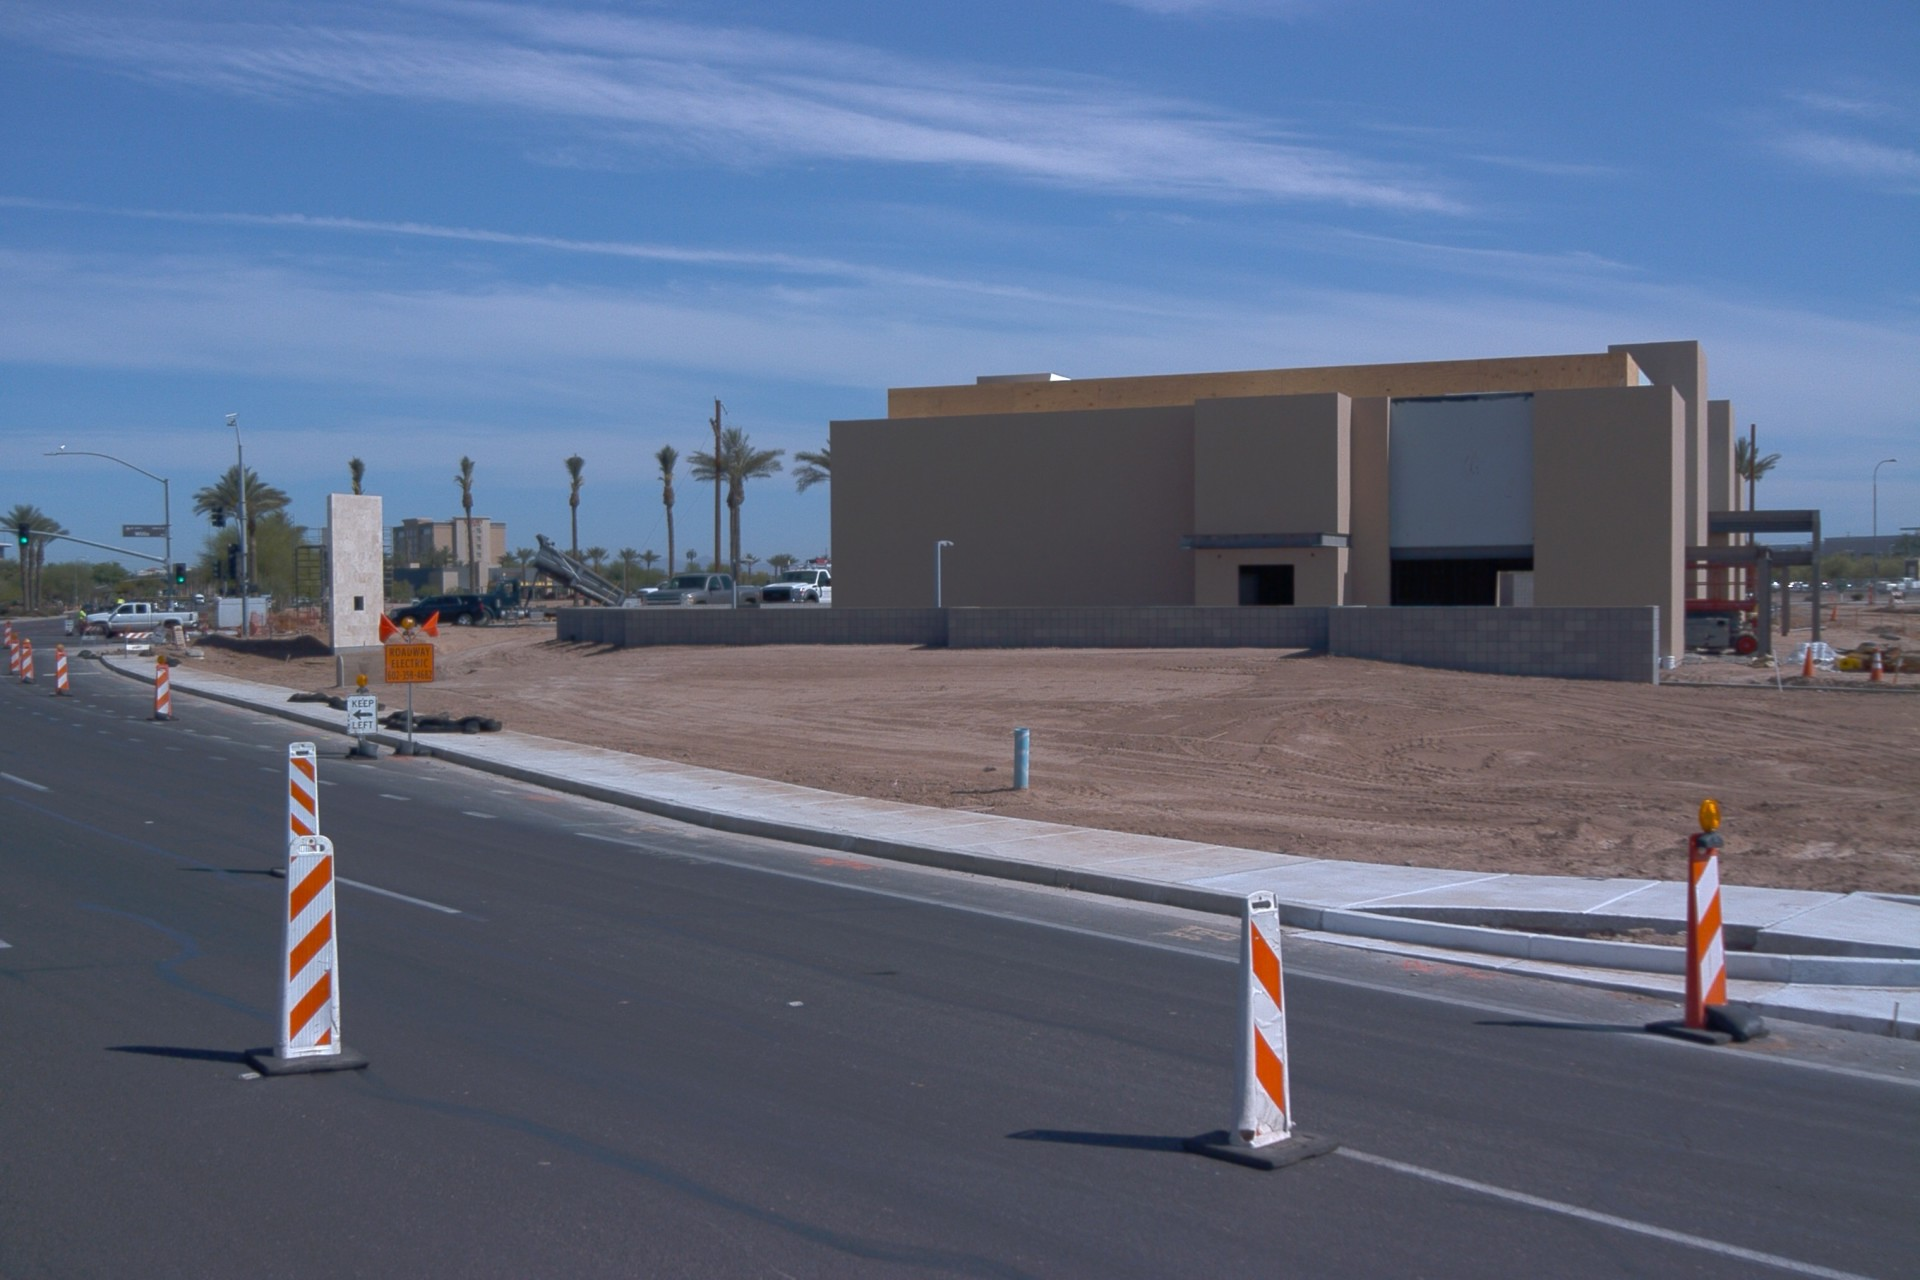TYPE_PEDESTRIAN: (77, 606, 86, 619)
TYPE_VEHICLE: (476, 533, 631, 625), (627, 567, 775, 610), (84, 600, 199, 640), (386, 589, 489, 630), (751, 558, 833, 607), (216, 595, 273, 639), (96, 589, 129, 610), (635, 582, 668, 600), (80, 603, 99, 614), (195, 591, 209, 605)
